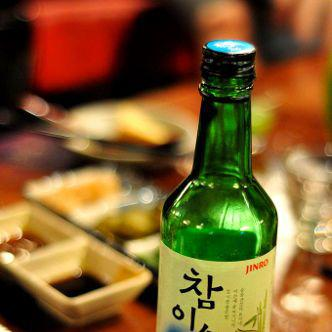soju: (154, 34, 275, 330)
